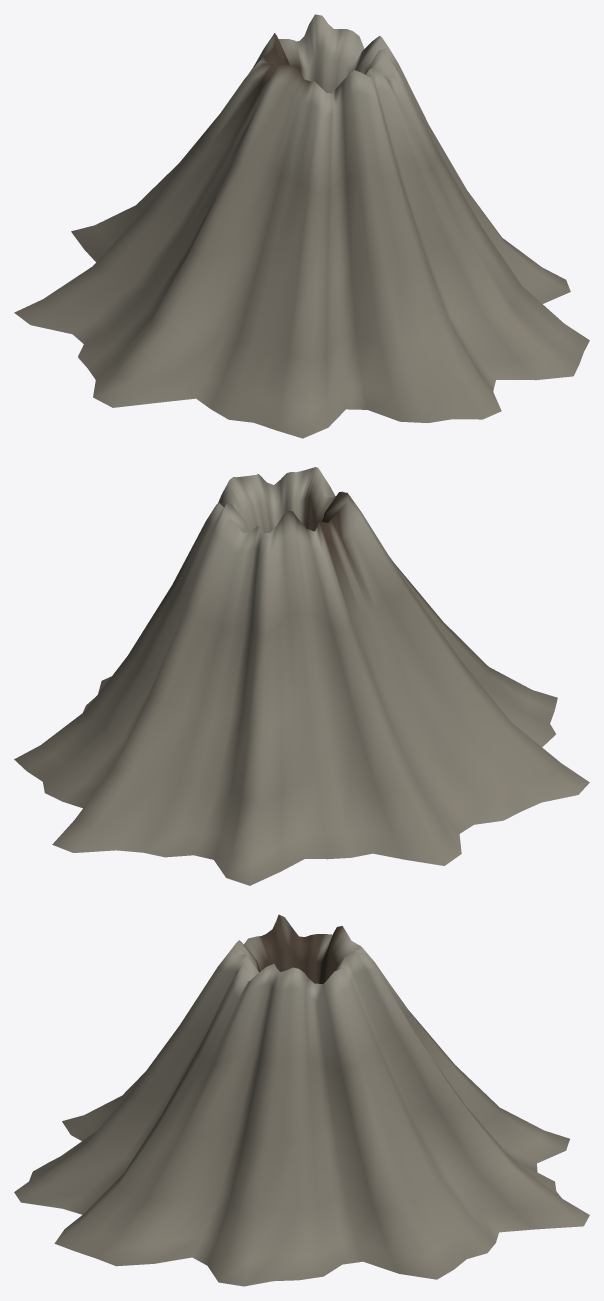
File: volcano-b.glb
3 renders of one model, top to bottom at view 1: azimuth 30°, elevation 25°; view 2: azimuth 150°, elevation 25°; view 3: azimuth 270°, elevation 25°, orthographic. The views are drawn at different scales.
Visible parts, largest first — view 1: volcano-b; view 2: volcano-b; view 3: volcano-b.
Boxes of the visible parts, bbox=[...] form: volcano-b: bbox=[14, 14, 589, 438]; volcano-b: bbox=[14, 467, 589, 885]; volcano-b: bbox=[14, 914, 589, 1286].
Size of the model in its own units: 2.06 by 1.11 by 2.3.
